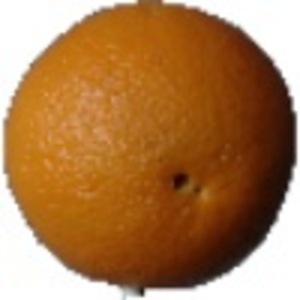laranja: (4, 2, 296, 298)
